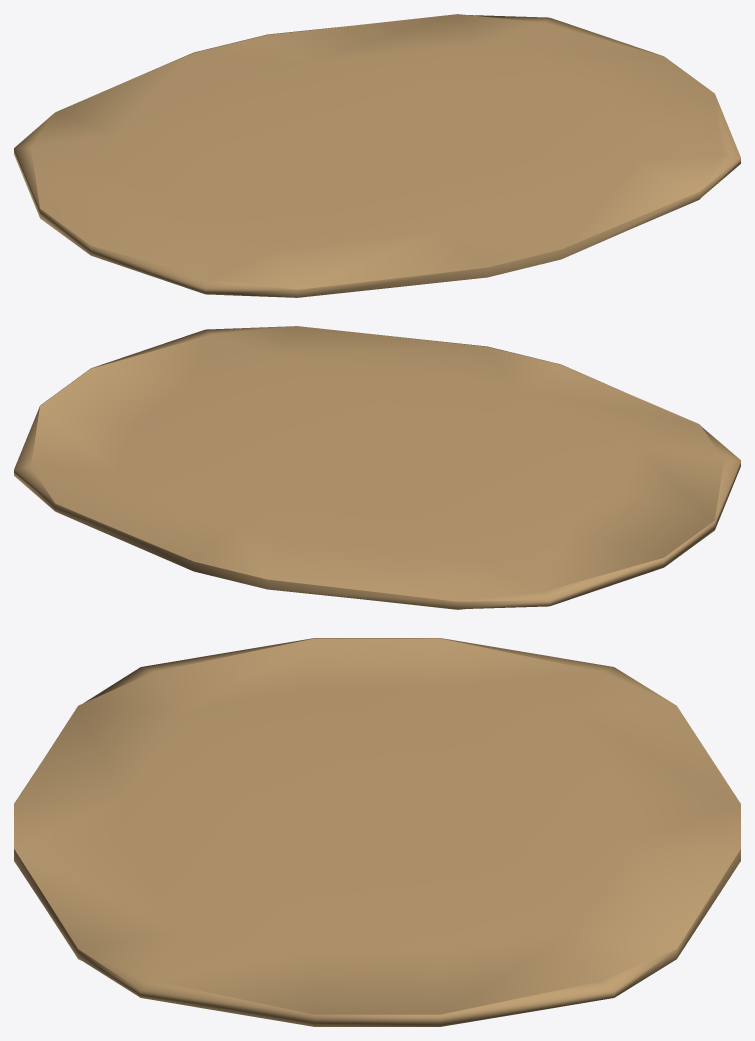
File: plattform.fbx
The picture shows the model from 3 angles, top to bottom: view 1: azimuth 30°, elevation 25°; view 2: azimuth 150°, elevation 25°; view 3: azimuth 270°, elevation 25°; orthographic projection. The views are drawn at different scales.
Parts seen in each view (by area): view 1: Cube; view 2: Cube; view 3: Cube.
Part boxes in pixels (x1,y1,x2,y2): Cube: (14,14,740,297); Cube: (14,326,740,609); Cube: (14,638,740,1026).
Size of the model in its own units: 2.48 by 0.0806 by 2.02.
